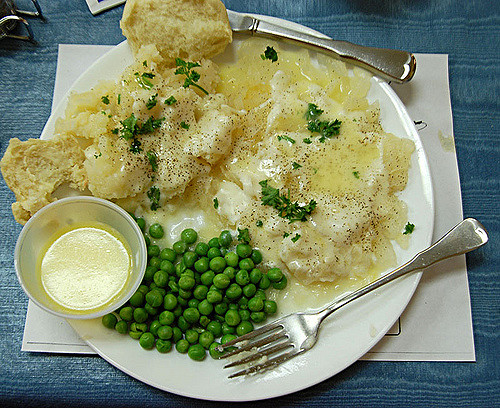boiled peas: (167, 243, 239, 328)
